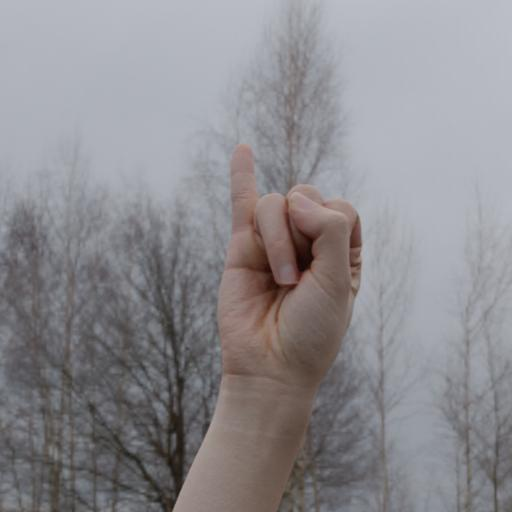A: (198, 124, 413, 460)
